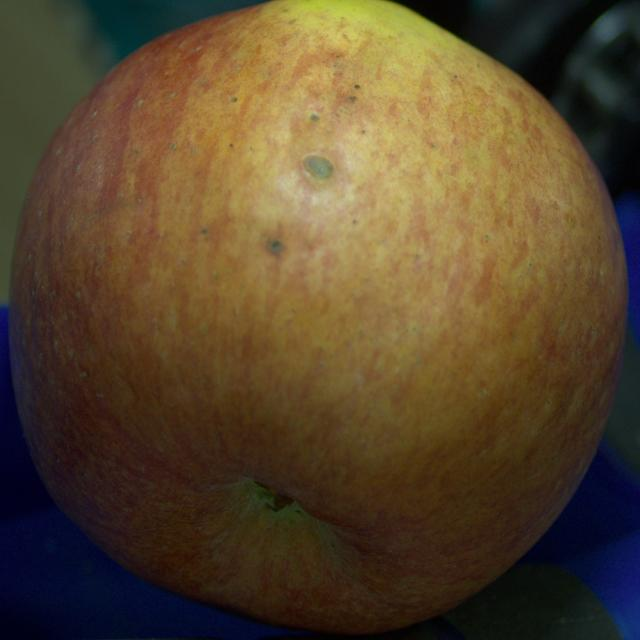apple: (9, 0, 627, 633)
pest: (304, 156, 333, 179), (269, 239, 282, 254), (310, 114, 319, 120), (349, 96, 356, 102), (354, 84, 360, 88)
